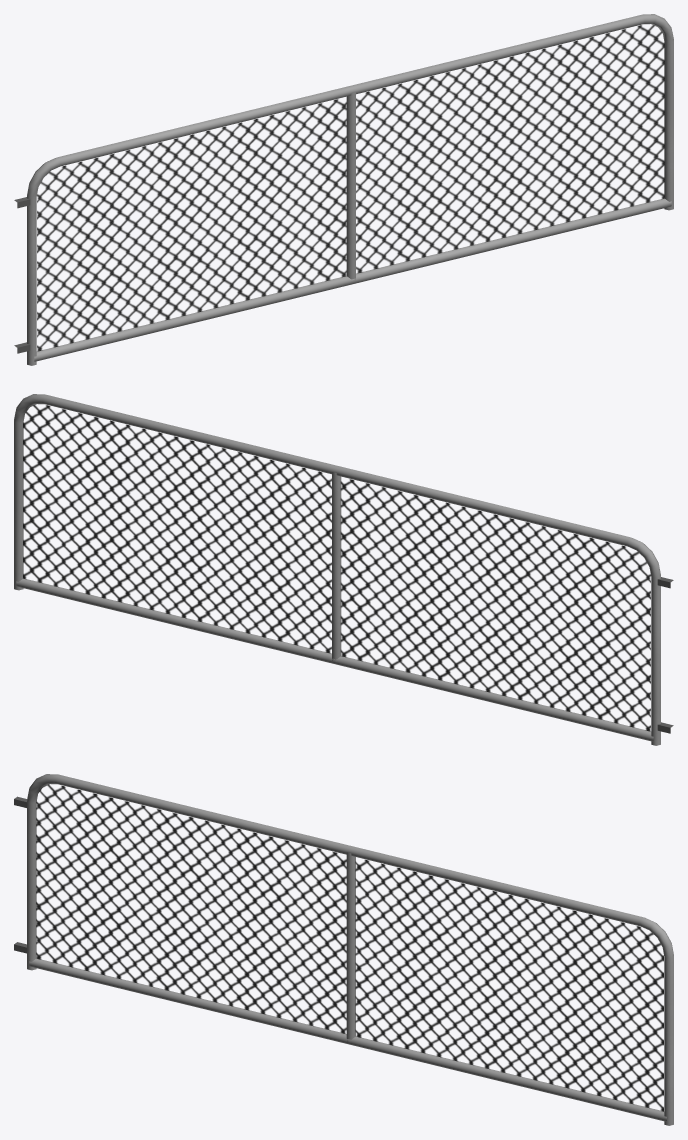
File: fence-chainlink-gate-3m-noPost-cbj_LOD01.gltf
3 views of the same model, one above another, from view 1: azimuth 30°, elevation 25°; view 2: azimuth 150°, elevation 25°; view 3: azimuth 330°, elevation 25° (orthographic).
Parts seen in each view (by area): view 1: post01; view 2: post01; view 3: post01.
Boxes of the visible parts, <box> form: post01: <box>14,14,673,365</box>; post01: <box>14,394,673,745</box>; post01: <box>14,774,673,1125</box>.
Bounding box in the file's own units: 3.46 × 1 × 0.0433.
